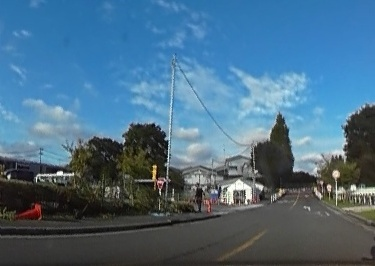person: (192, 180, 204, 212)
